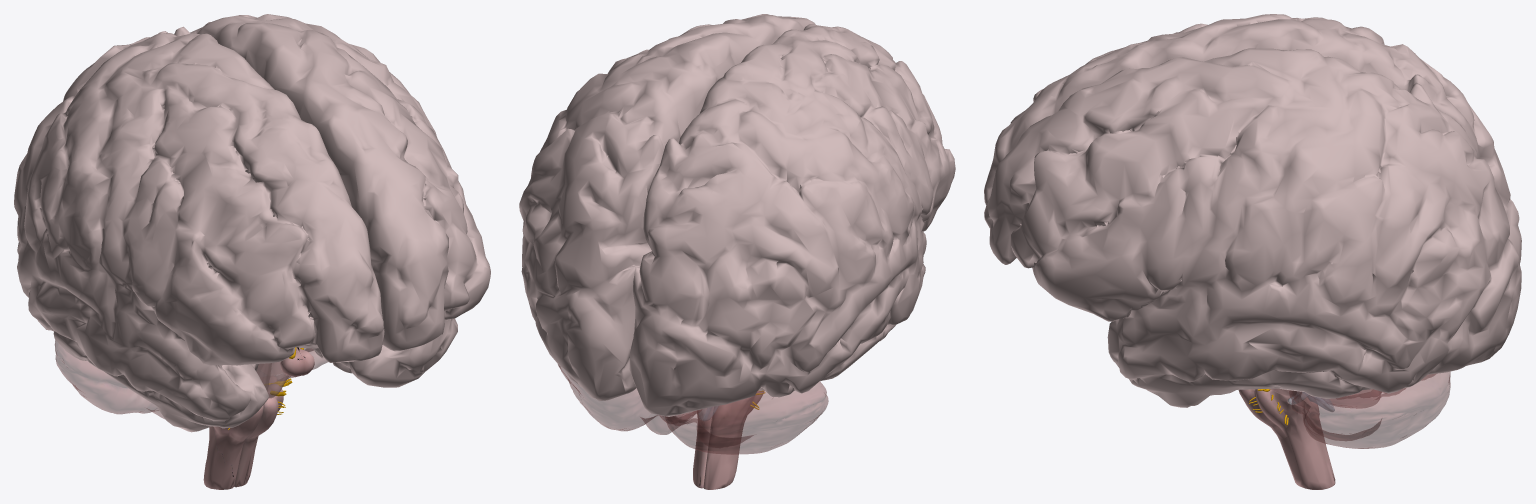
Rendered from limbic-ap-lite.glb.
The picture shows the model from 3 angles, left to right: view 1: azimuth 30°, elevation 25°; view 2: azimuth 150°, elevation 25°; view 3: azimuth 270°, elevation 25°; orthographic projection. The views are drawn at different scales.
Parts seen in each view (by area): view 1: mesh17, mesh16, mesh60, mesh61, mesh20; view 2: mesh17, mesh16, mesh60, mesh46, mesh61; view 3: mesh17, mesh46, mesh61, mesh16.
Boxes of the visible parts, x1,y1,x2,y2 form: mesh17: (14, 14, 490, 432); mesh16: (54, 340, 164, 418); mesh60: (203, 405, 263, 489); mesh61: (234, 376, 283, 487); mesh20: (257, 361, 288, 398); mesh17: (519, 14, 955, 416); mesh16: (665, 381, 828, 454); mesh60: (703, 390, 764, 489); mesh46: (558, 364, 701, 434); mesh61: (693, 407, 713, 488); mesh17: (984, 14, 1521, 407); mesh46: (1289, 372, 1450, 448); mesh61: (1238, 389, 1335, 489); mesh16: (1326, 374, 1435, 408).
Bounding box in the file's own units: 2.57 × 3 × 3.28.
Materials: 47 (38 with a texture image).
